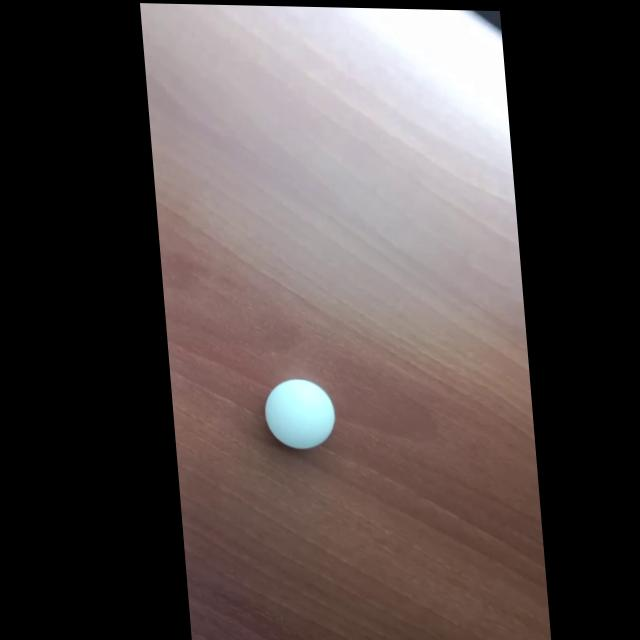white ball: (261, 377, 338, 451)
